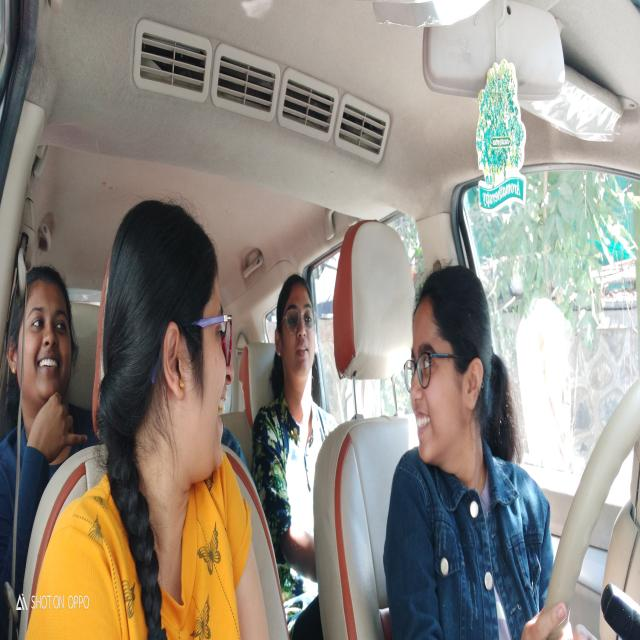LeftRight: (408, 262, 492, 471)
person: (98, 197, 232, 494), (11, 250, 80, 410), (272, 266, 318, 392)
